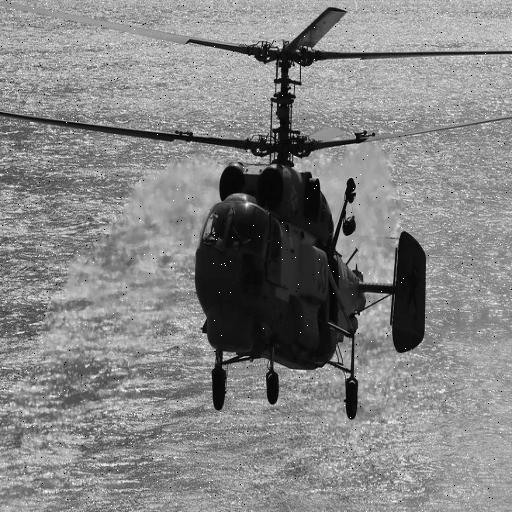helicopter: (41, 1, 512, 419)
